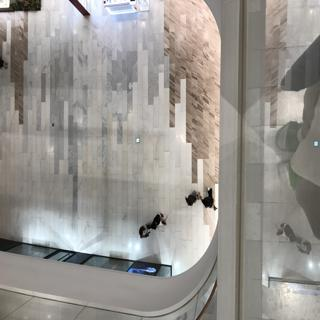person: (147, 207, 175, 241), (203, 187, 222, 216), (176, 185, 197, 211)
